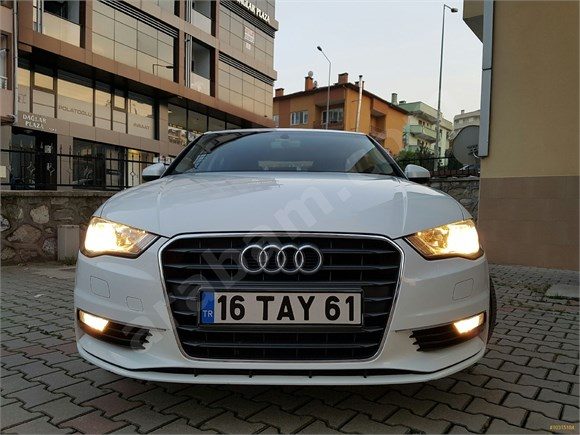audi: (232, 238, 326, 282)
